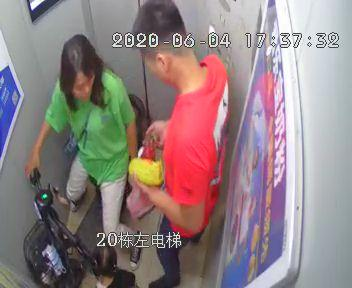Electric-bicycle: (22, 86, 147, 283)
